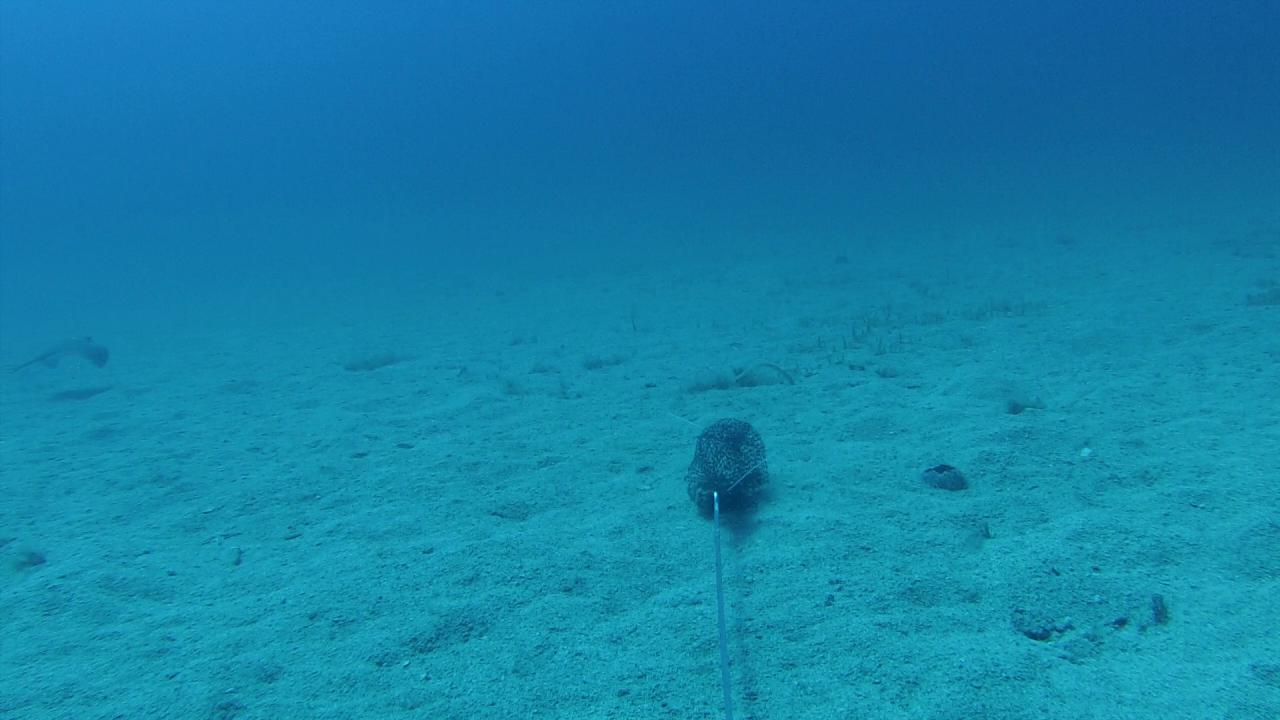dasyatis: (7, 330, 108, 378)
